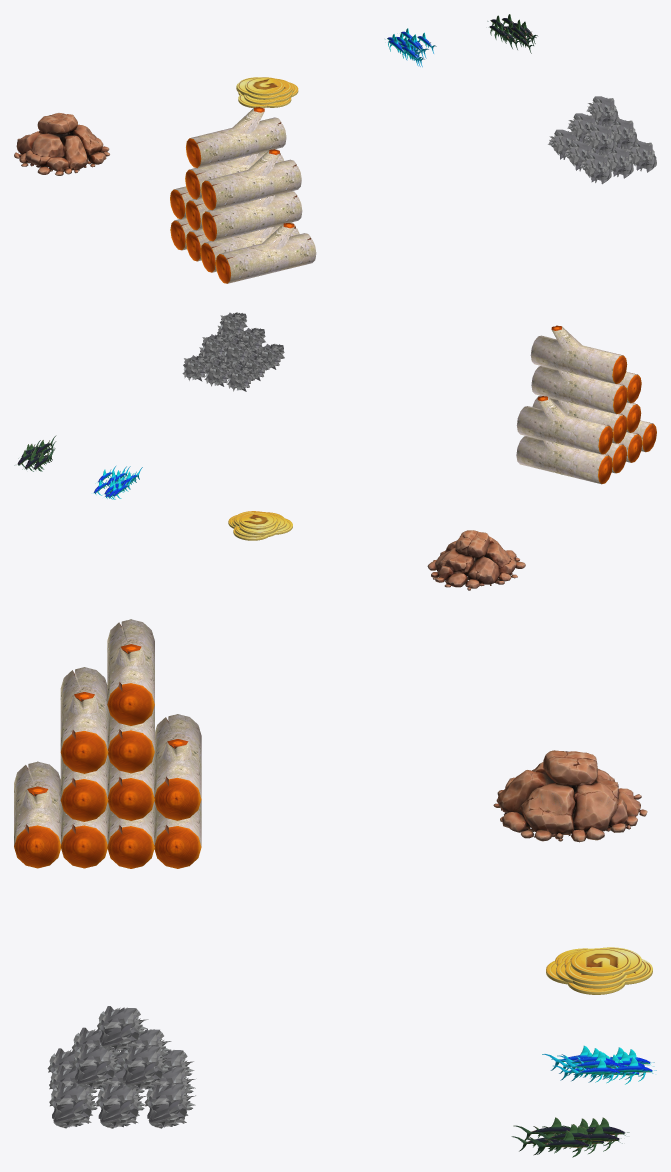
The model's file is Building7Whole_INIT.glb.
3 views of the same model, one above another, from view 1: azimuth 30°, elevation 25°; view 2: azimuth 150°, elevation 25°; view 3: azimuth 270°, elevation 25° (orthographic). The views are drawn at different scales.
Visible parts, largest first — view 1: Building7Whole_INIT; view 2: Building7Whole_INIT; view 3: Building7Whole_INIT.
Boxes of the visible parts, x1,y1,x2,y2 form: Building7Whole_INIT: [14, 14, 656, 283]; Building7Whole_INIT: [14, 312, 656, 590]; Building7Whole_INIT: [14, 619, 656, 1157].
Size of the model in its own units: 5.67 by 1.43 by 4.04.
Materials: 8 (7 with a texture image).
